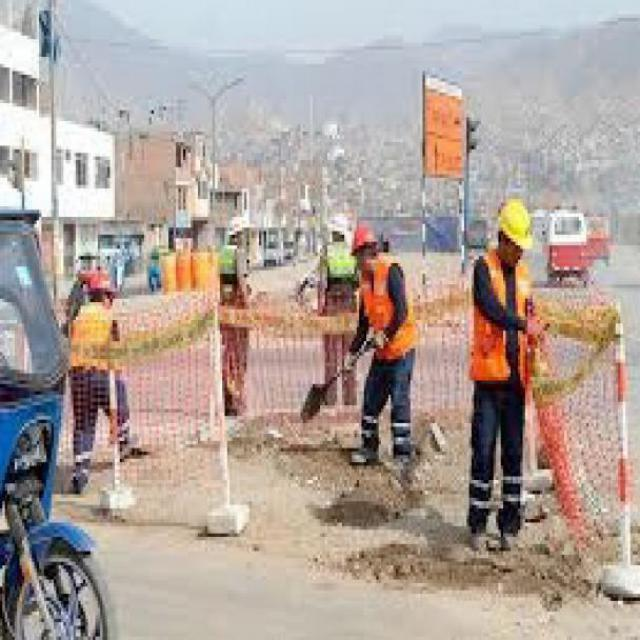helmet: (489, 168, 537, 266), (337, 213, 381, 267)
vest: (464, 242, 535, 398), (347, 270, 413, 352)
